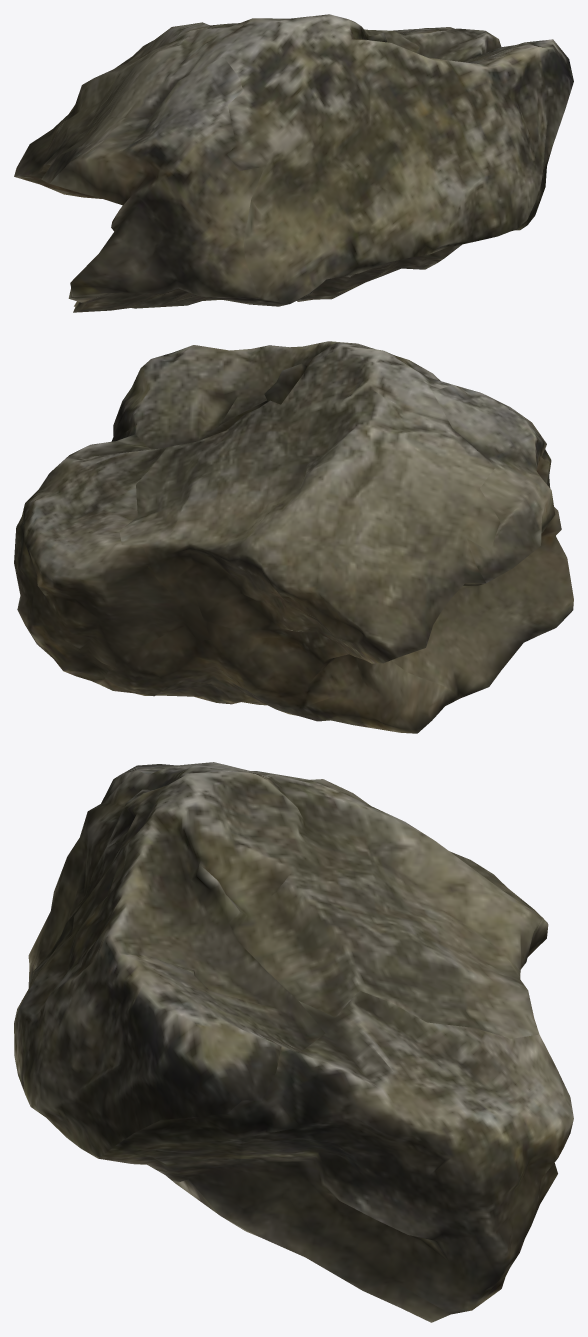
Rendered from rock_03_lod1.glb.
3 views of the same model, one above another, from view 1: azimuth 30°, elevation 25°; view 2: azimuth 150°, elevation 25°; view 3: azimuth 270°, elevation 25° (orthographic). The views are drawn at different scales.
Parts seen in each view (by area): view 1: Rock_03_LOD1; view 2: Rock_03_LOD1; view 3: Rock_03_LOD1.
Part boxes in pixels (bbox=[...]): Rock_03_LOD1: bbox=[14, 14, 573, 312]; Rock_03_LOD1: bbox=[14, 341, 573, 733]; Rock_03_LOD1: bbox=[14, 762, 573, 1322].
Size of the model in its own units: 1.95 by 1.3 by 1.53.
Materials: 1 (1 with a texture image).
